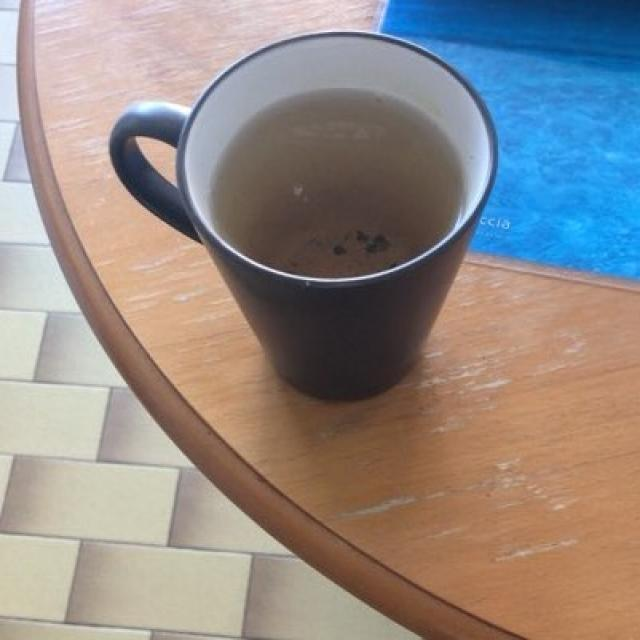tea: (218, 89, 460, 271)
